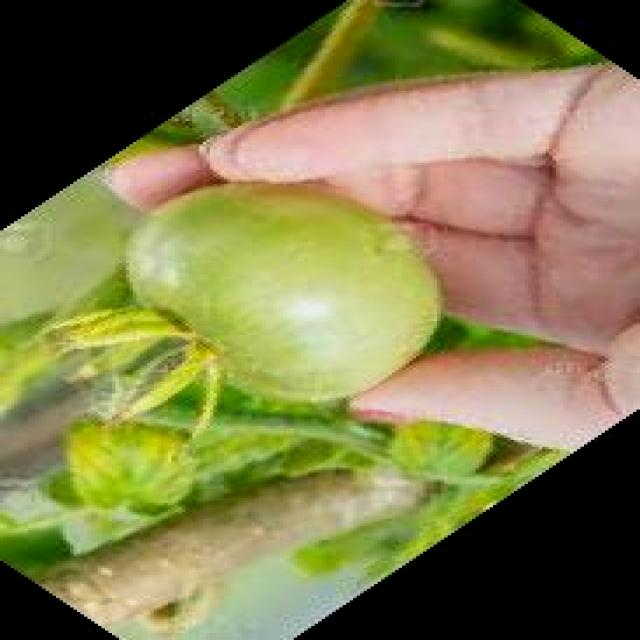tomato: (125, 182, 452, 406)
